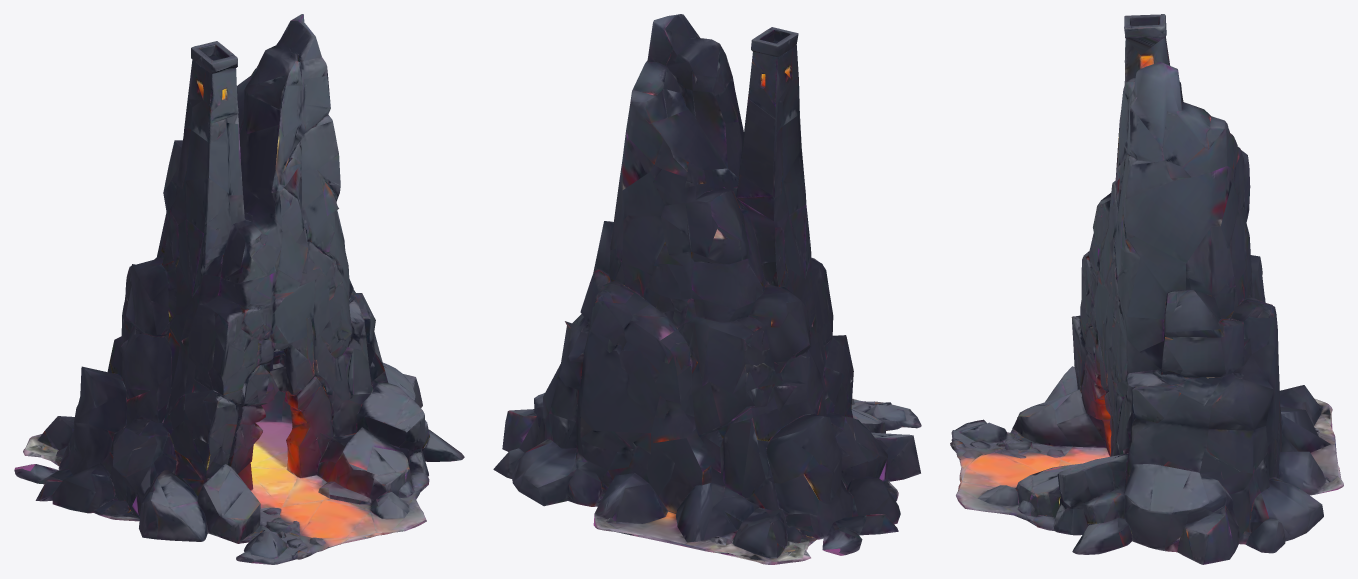
The model's file is volcano-forge-tower-lod1.glb.
3 renders of one model, left to right at view 1: azimuth 30°, elevation 25°; view 2: azimuth 150°, elevation 25°; view 3: azimuth 270°, elevation 25°, orthographic.
Visible parts, largest first — view 1: Mesh_0; view 2: Mesh_0; view 3: Mesh_0.
Part boxes in pixels (left/top/right/bottom): Mesh_0: left=14, top=14, right=464, bottom=564; Mesh_0: left=493, top=14, right=921, bottom=564; Mesh_0: left=950, top=14, right=1343, bottom=564.
Bounding box in the file's own units: 1.76 × 1.89 × 1.56.
Materials: 1 (1 with a texture image).
